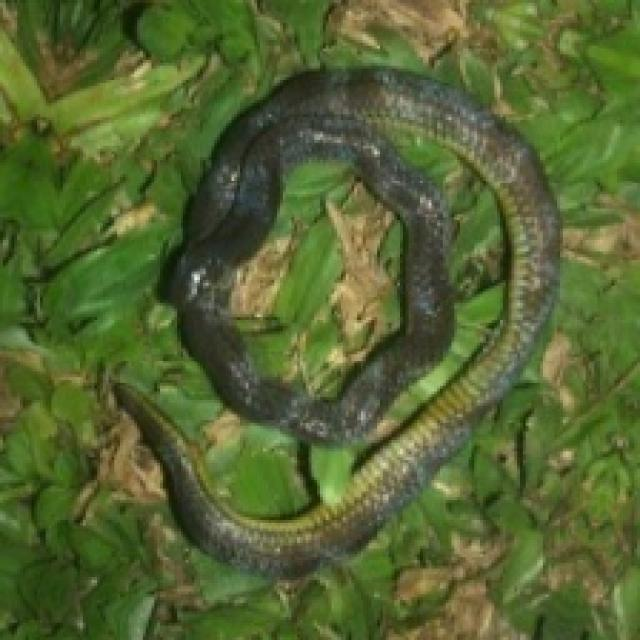gervais worm snake: (114, 69, 557, 574)
